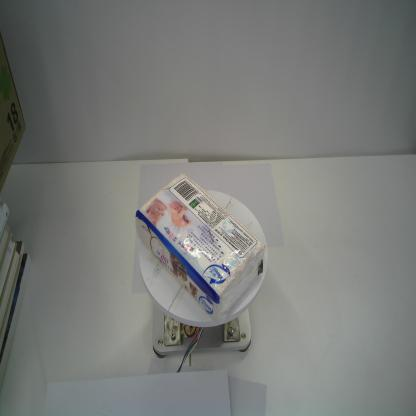Tissue: (135, 172, 267, 324)
